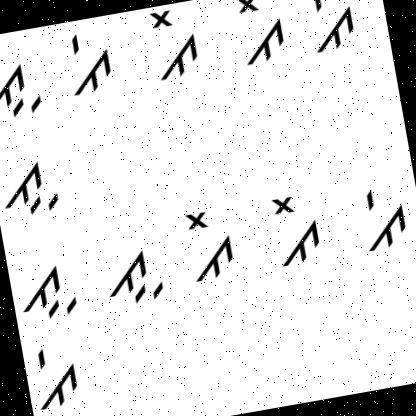kah: (98, 238, 170, 311), (0, 147, 67, 225), (13, 258, 82, 326), (0, 51, 50, 132)
ke: (53, 22, 120, 102), (350, 177, 412, 258), (29, 338, 86, 416), (302, 0, 365, 59)
ko: (258, 184, 330, 278), (137, 5, 206, 90), (176, 193, 240, 284), (223, 0, 292, 76)
